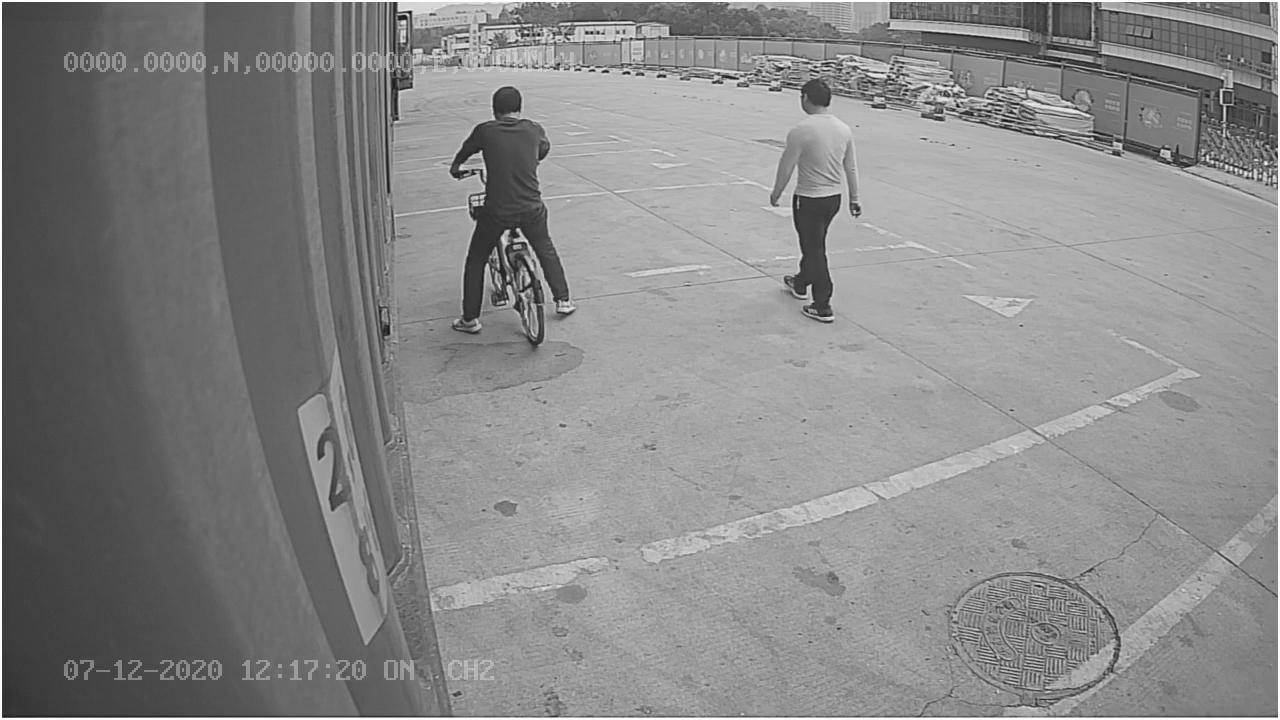person: (769, 72, 866, 325)
